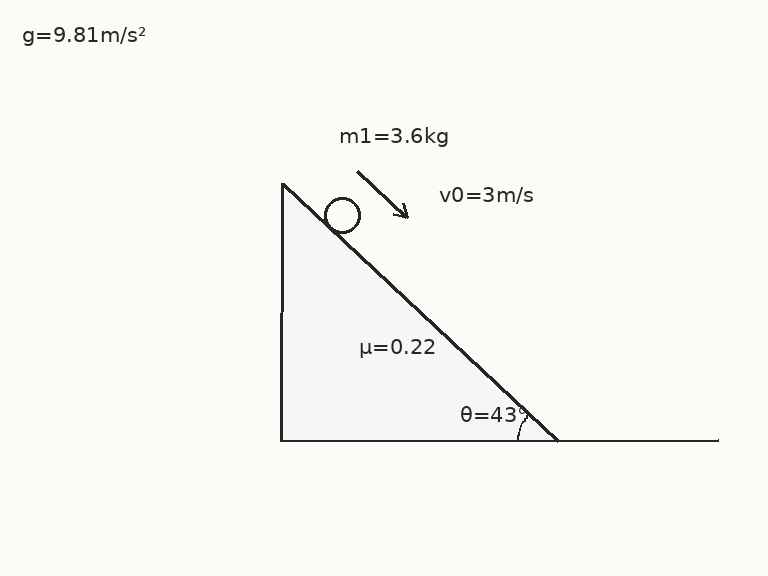ball: (322, 195, 362, 235)
ramp: (280, 182, 560, 443)
